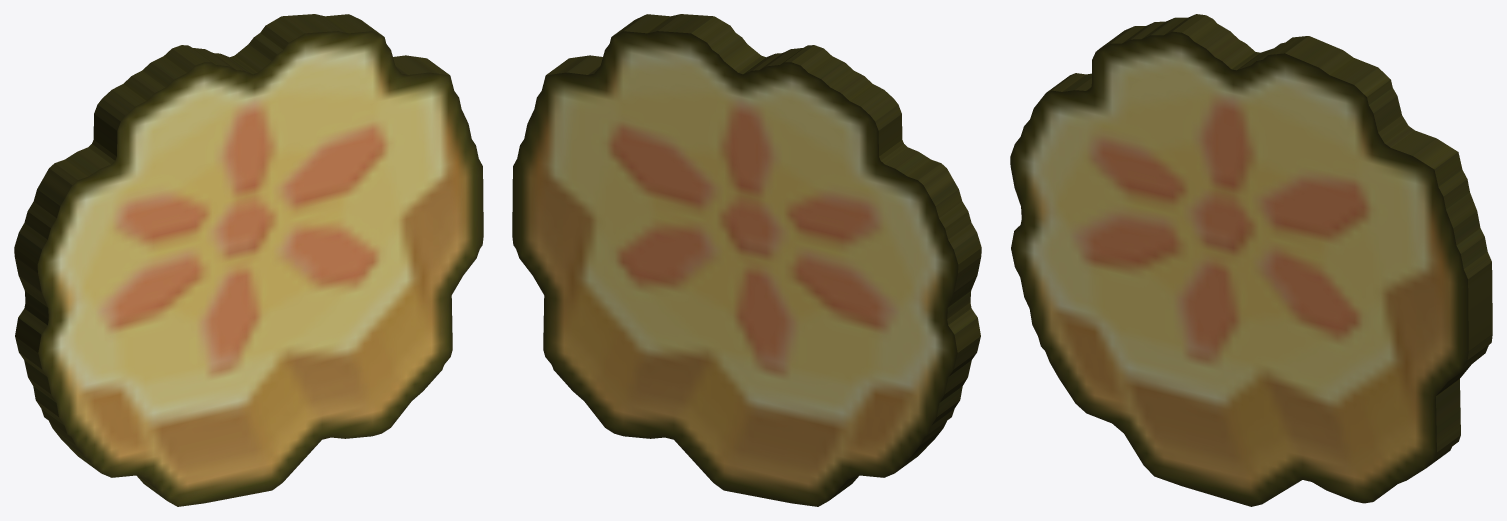
File: sakura_ice_mooncake_yellow.glb
3 renders of one model, left to right at view 1: azimuth 30°, elevation 25°; view 2: azimuth 150°, elevation 25°; view 3: azimuth 330°, elevation 25°, orthographic. The views are drawn at different scales.
Parts seen in each view (by area): view 1: world; view 2: world; view 3: world.
Part boxes in pixels (x1,y1,x2,y2): world: [14, 14, 483, 506]; world: [512, 14, 981, 506]; world: [1010, 14, 1492, 506].
Bounding box in the file's own units: 0.8274 × 0.7961 × 0.075.
1 material, 1 textured.
